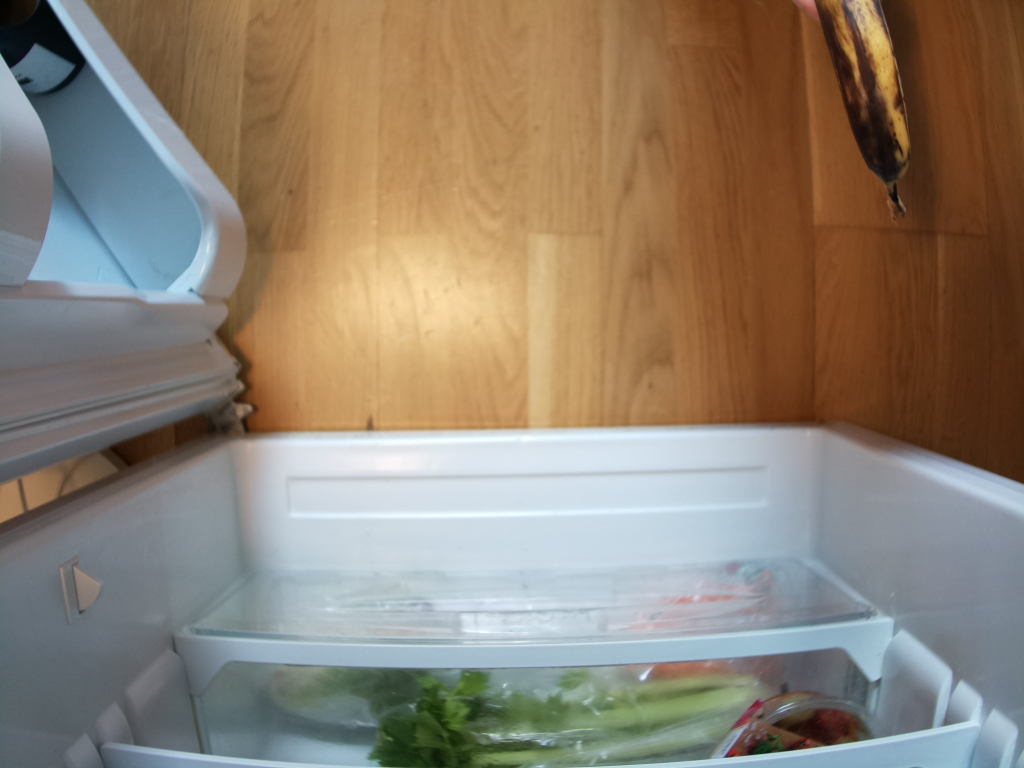banana-overripe: (819, 1, 922, 224)
